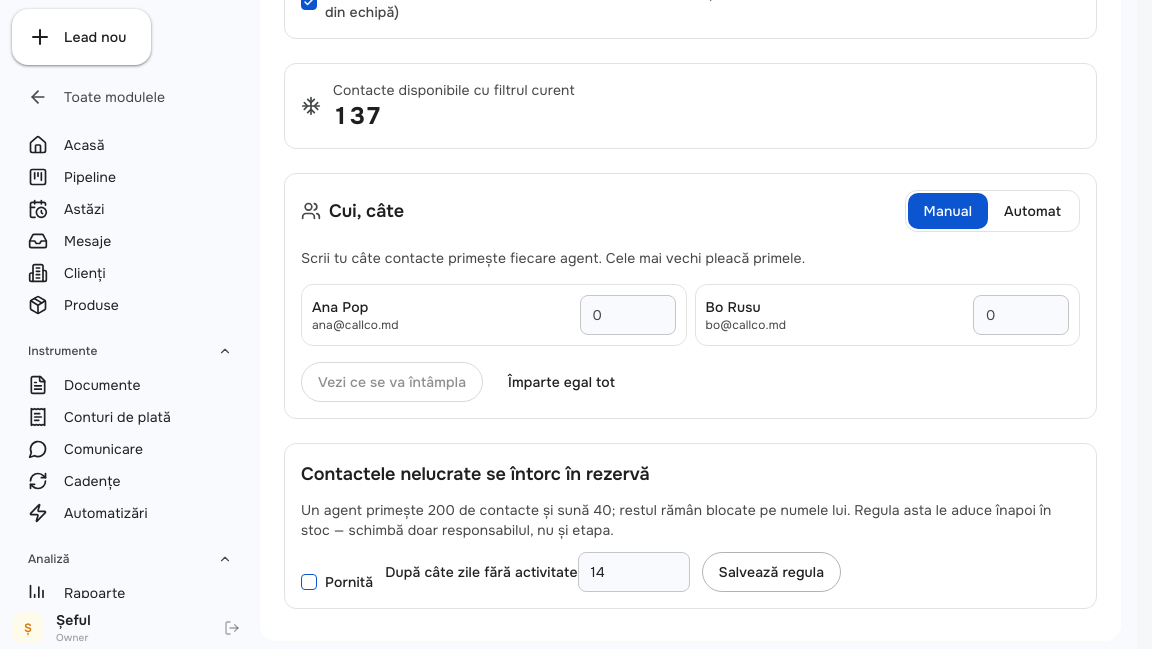
Test: Repartizarea pe loturi › [blocant] numărul de pe buton e cel al SERVERULUI, nu cel cerut de om
The image size is (1152, 649).
(page scrolled)
Type "400" into the number field named "Câte contacte primește Ana Pop" at (628, 315), box [580,295,676,335]
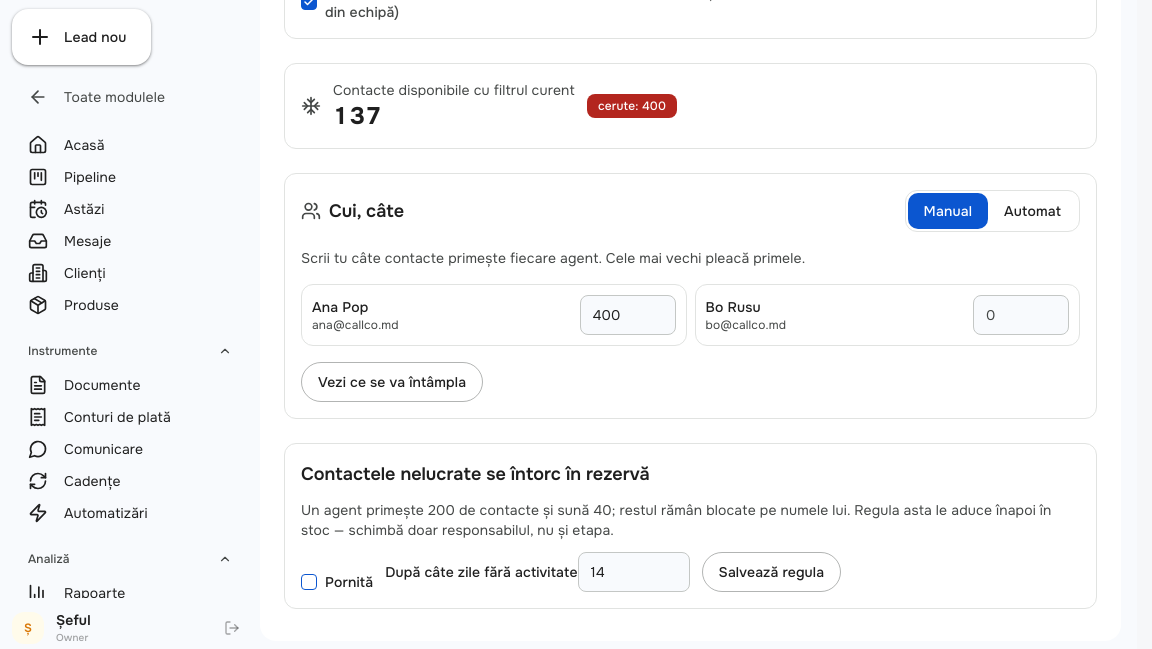
Click the button "Vezi ce se va întâmpla" at (392, 382), box [301,362,483,402]
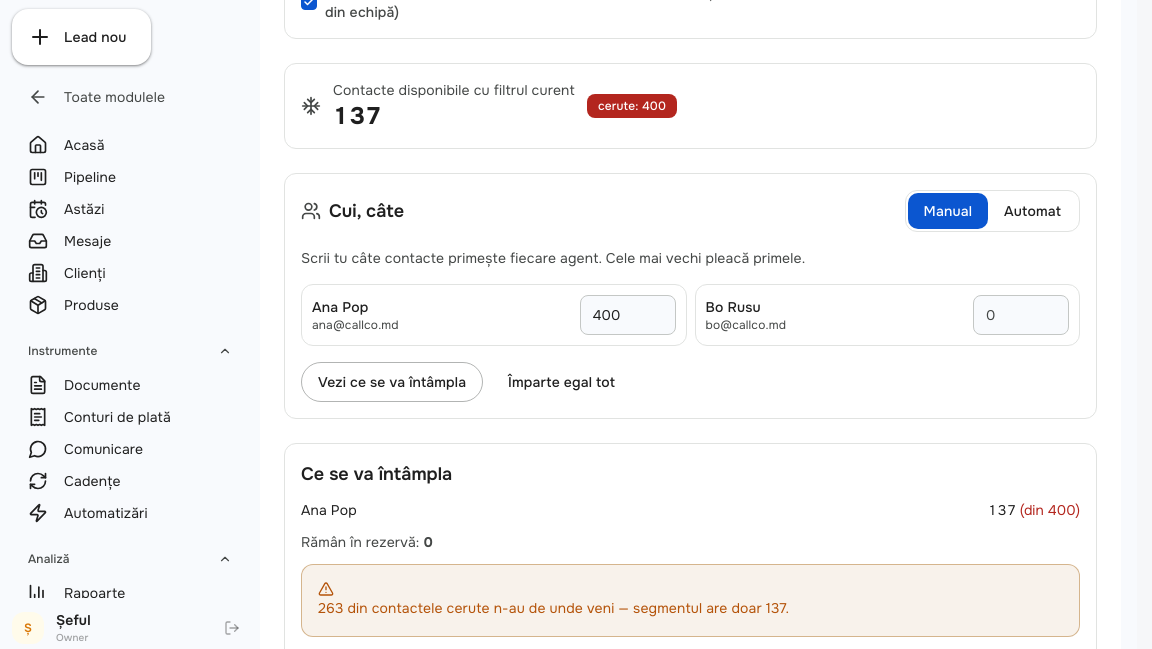
Now the text "263 din contactele cerute n-au de unde veni" is shown, box [318,581,789,620]
